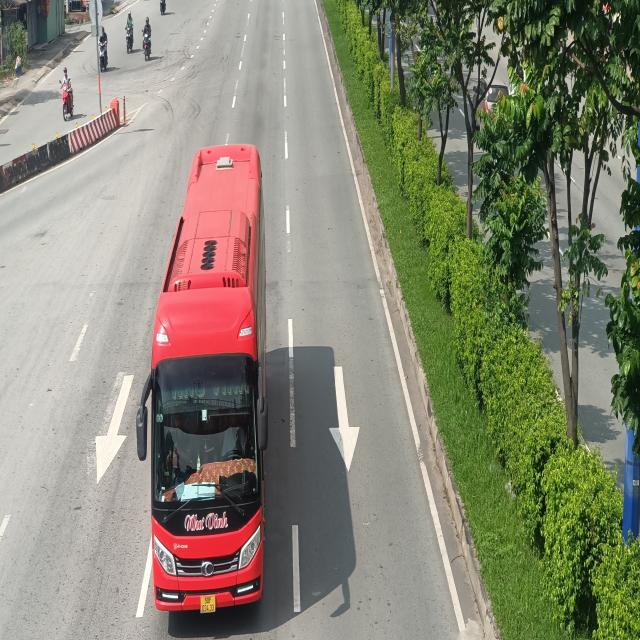coach: (135, 140, 270, 616)
